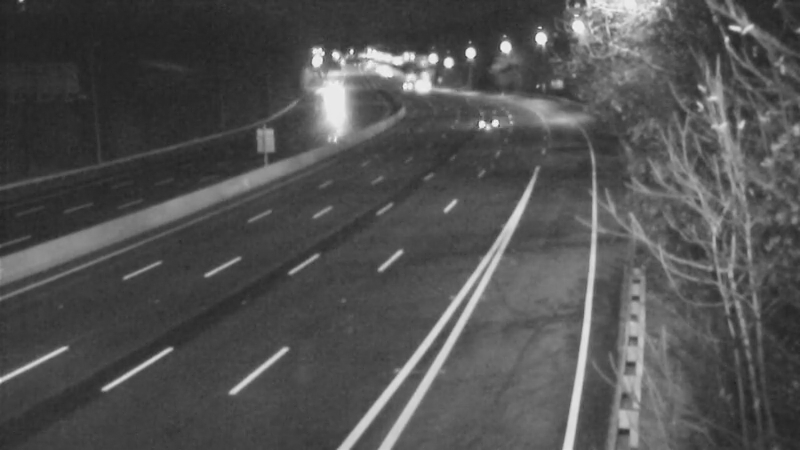vehicle: (397, 61, 447, 111), (458, 94, 508, 144), (304, 71, 354, 121)
